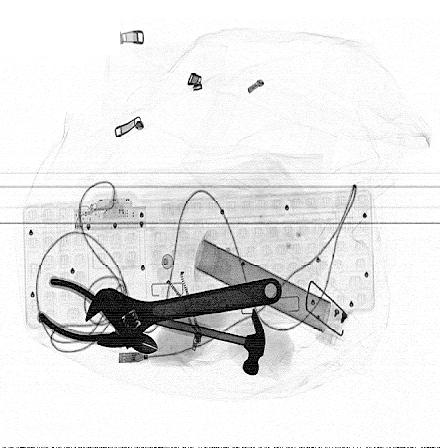Hammer: (138, 308, 267, 372)
Pliers: (35, 277, 160, 352)
Wrench: (85, 280, 281, 353)
